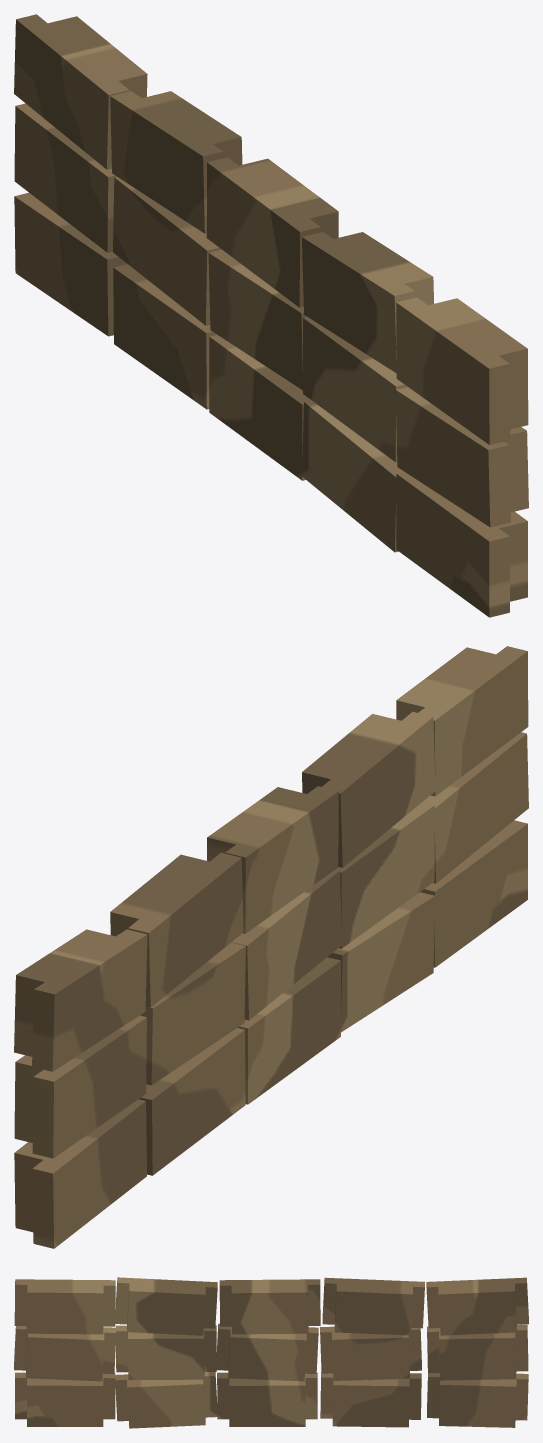
File: SM_Veh_Attach_Tank_Armour_12.fbx
The picture shows the model from 3 angles, top to bottom: view 1: azimuth 30°, elevation 25°; view 2: azimuth 150°, elevation 25°; view 3: azimuth 270°, elevation 25°; orthographic projection. The views are drawn at different scales.
Visible parts, largest first — view 1: SM_Veh_Attach_Tank_Armour_12; view 2: SM_Veh_Attach_Tank_Armour_12; view 3: SM_Veh_Attach_Tank_Armour_12.
Part boxes in pixels (left/top/right/bottom): SM_Veh_Attach_Tank_Armour_12: left=14, top=14, right=528, bottom=617; SM_Veh_Attach_Tank_Armour_12: left=14, top=646, right=528, bottom=1248; SM_Veh_Attach_Tank_Armour_12: left=14, top=1277, right=528, bottom=1428.
Size of the model in its own units: 11.1 by 54.59 by 184.
